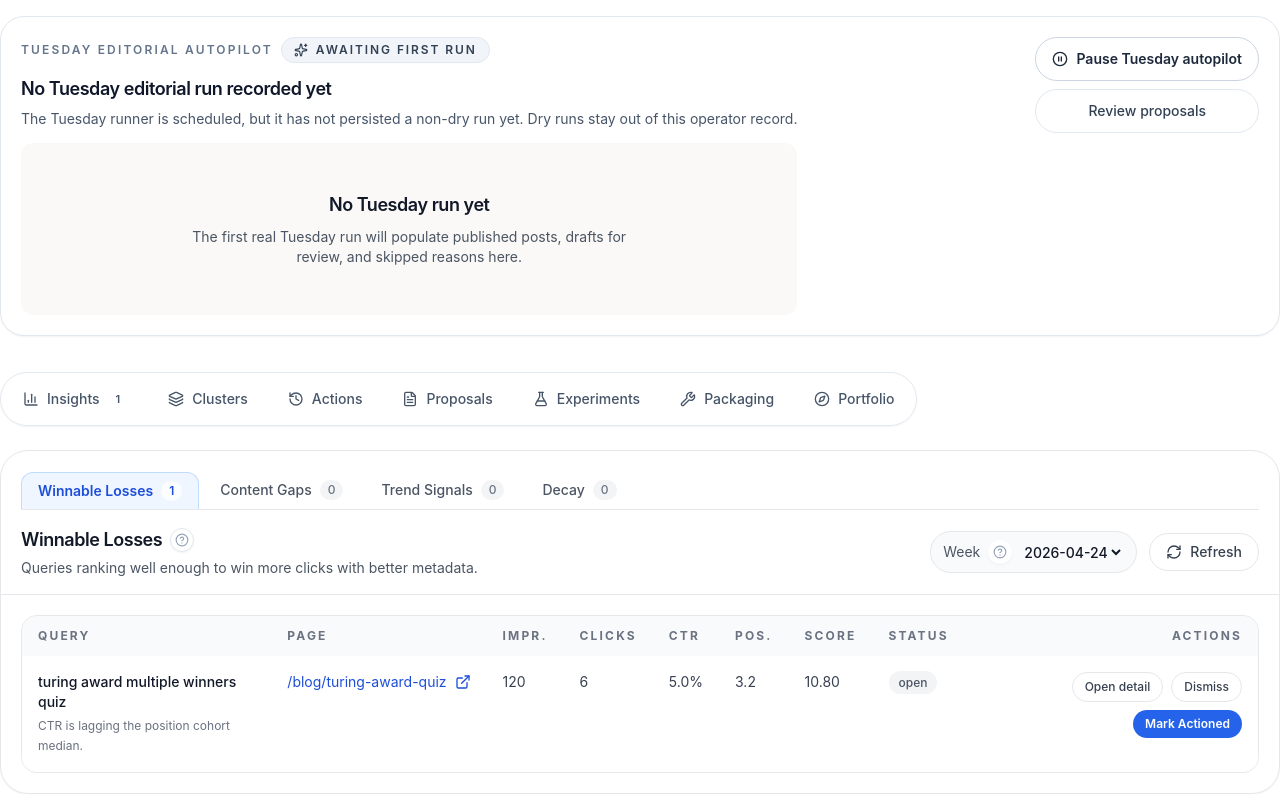
it: SeoInsightsPage › dismisses a finding and refreshes the list
(page scrolled)
Expected: the text "turing award multiple winners quiz" is shown, [38,672,255,712]
What coordinates should you click on to do the following:
click the button "Dismiss"
I would click on:
 (1207, 687)
Its box is [1171,672,1242,702].
(page scrolled)
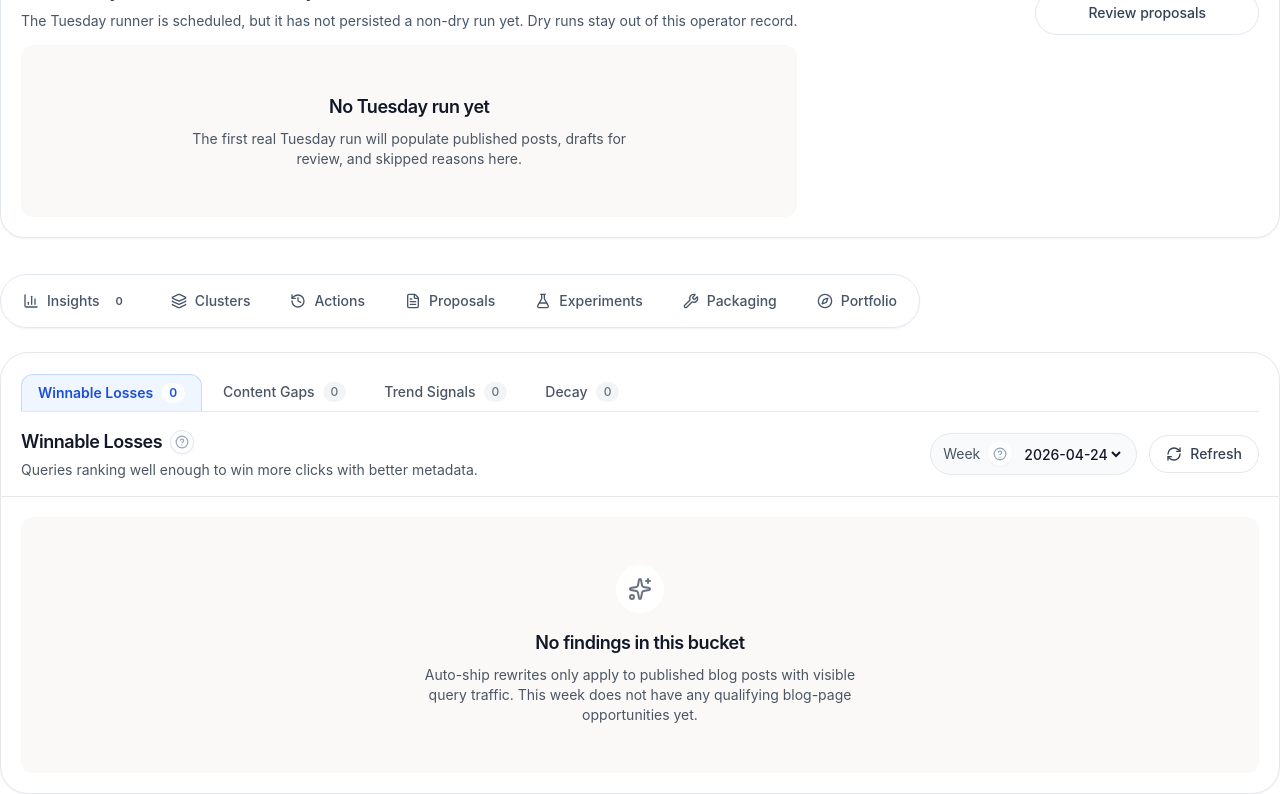
Now the heading "No findings in this bucket" is shown, box [535,629,745,657]
Now the text "Auto-ship rewrites only apply to published blog posts" is shown, box [425,666,855,723]
